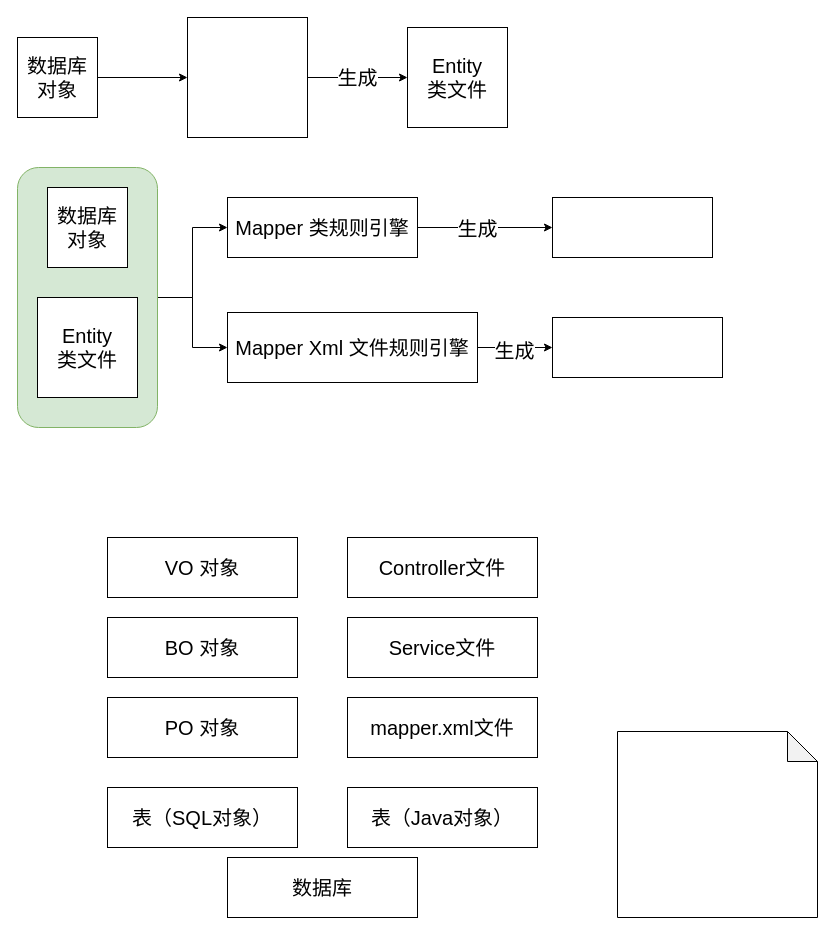
This 835x935 diagram has some shape labels left out. The centre of each missing label's shape, as x and y in pixels:
"Entity 类文件 规则引擎" goes at (247,77).
"Mapper XML 文件" goes at (637,347).
"Mapper 类文件" goes at (632,227).
